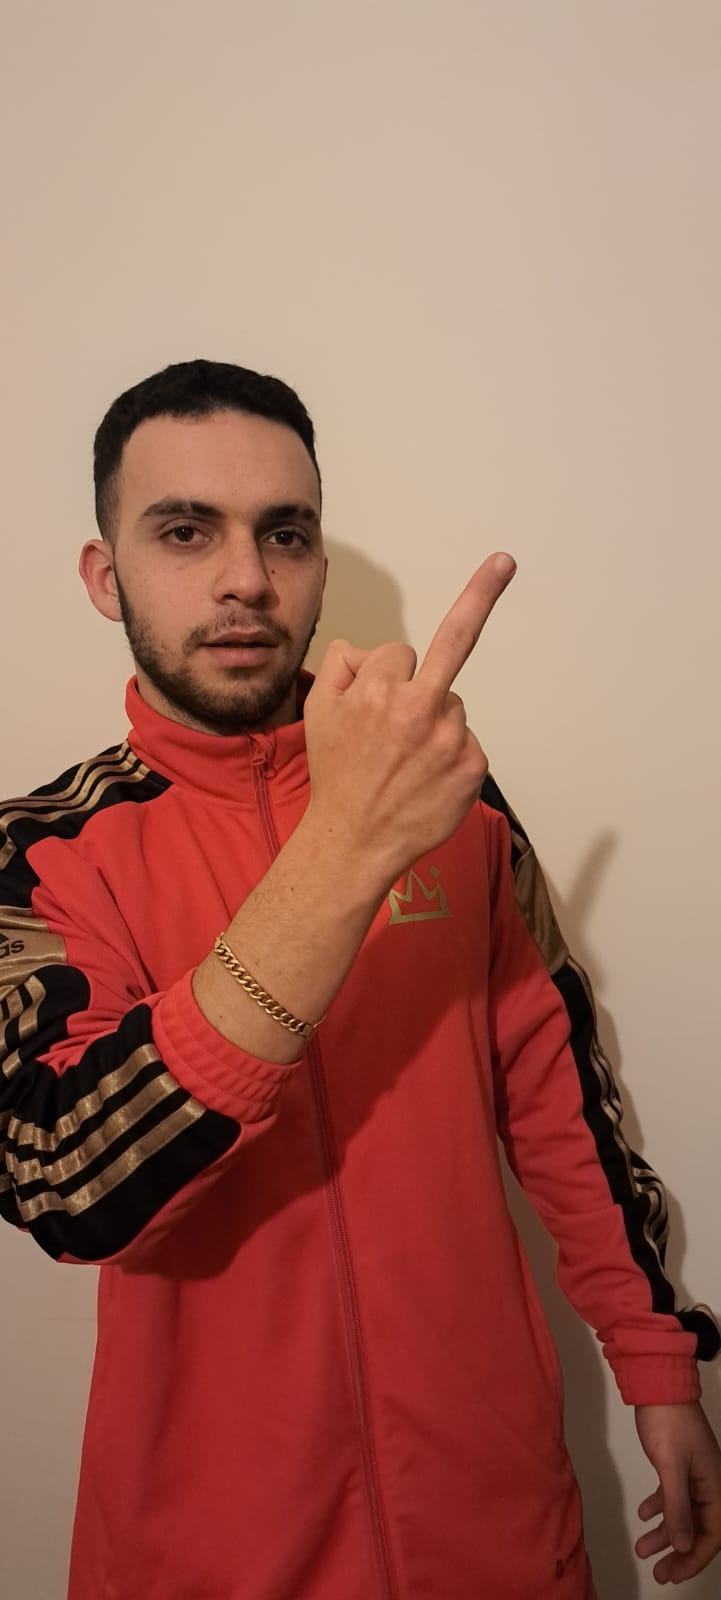fck: (290, 549, 535, 861)
